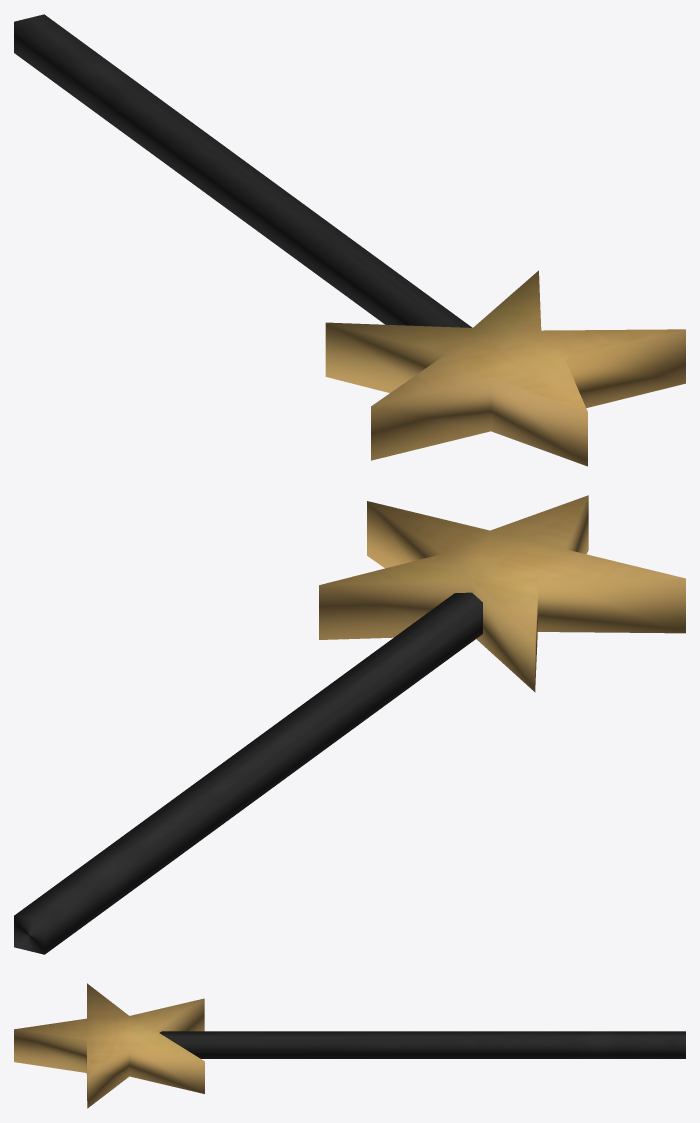
Rendered from Varita.obj.
3 renders of one model, top to bottom at view 1: azimuth 30°, elevation 25°; view 2: azimuth 150°, elevation 25°; view 3: azimuth 270°, elevation 25°, orthographic. The views are drawn at different scales.
Visible parts, largest first — view 1: polySurface206; view 2: polySurface206; view 3: polySurface206.
Boxes of the visible parts, x1,y1,x2,y2 form: polySurface206: (14,14,685,466); polySurface206: (14,495,685,954); polySurface206: (14,983,685,1108).
Bounding box in the file's own units: 3.02 × 0.4965 × 9.22.
Materials: 2 (2 with a texture image).
